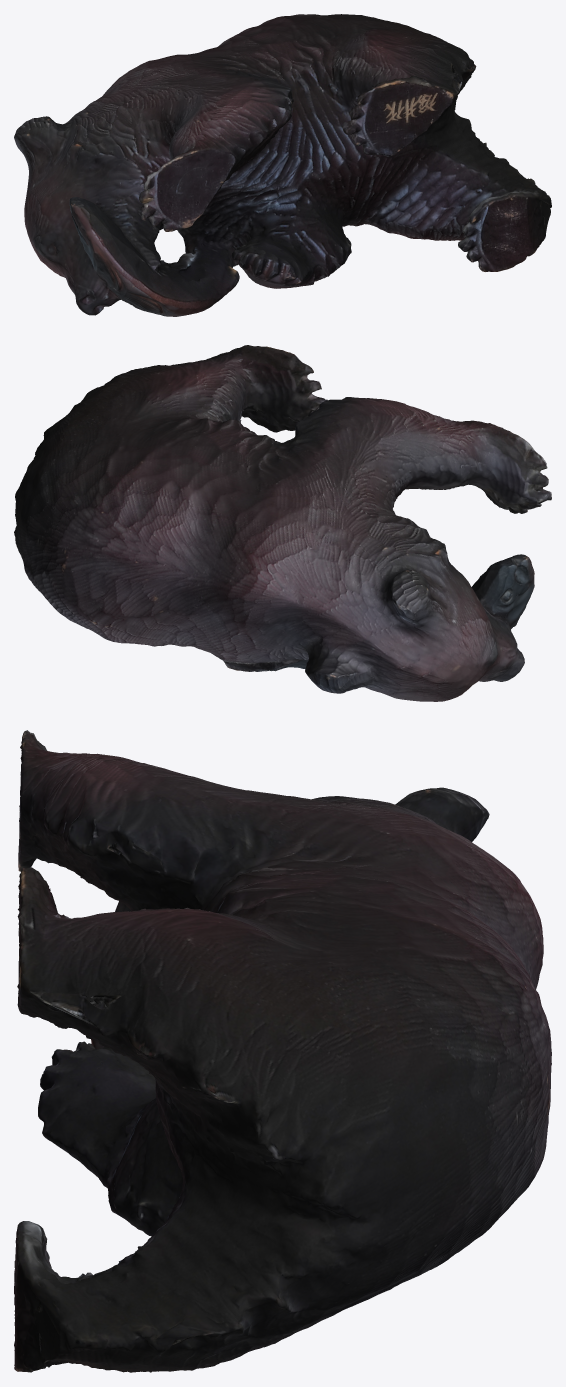
Rendered from kuma.glb.
3 renders of one model, top to bottom at view 1: azimuth 30°, elevation 25°; view 2: azimuth 150°, elevation 25°; view 3: azimuth 270°, elevation 25°, orthographic. The views are drawn at different scales.
Parts seen in each view (by area): view 1: Model; view 2: Model; view 3: Model.
Boxes of the visible parts, x1,y1,x2,y2 form: Model: (14, 14, 551, 316); Model: (14, 345, 551, 701); Model: (14, 730, 551, 1372).
Size of the model in its own units: 0.5056 by 0.2349 by 0.2882.
1 material, 1 textured.
